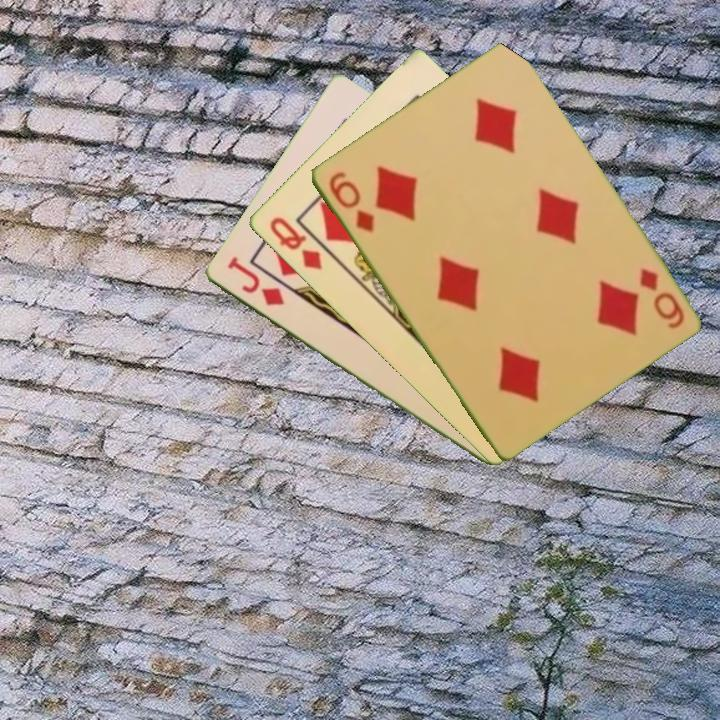6d: (324, 167, 377, 236), (635, 264, 687, 332)
Jd: (223, 253, 287, 309)
Qd: (265, 213, 325, 273)
